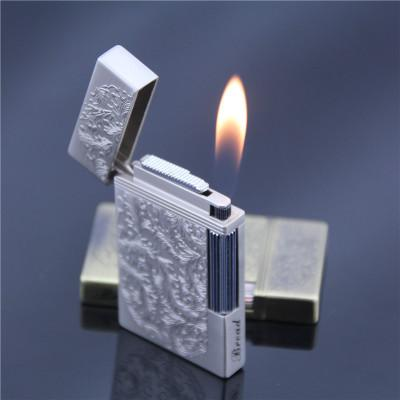Fire: (209, 70, 249, 199)
